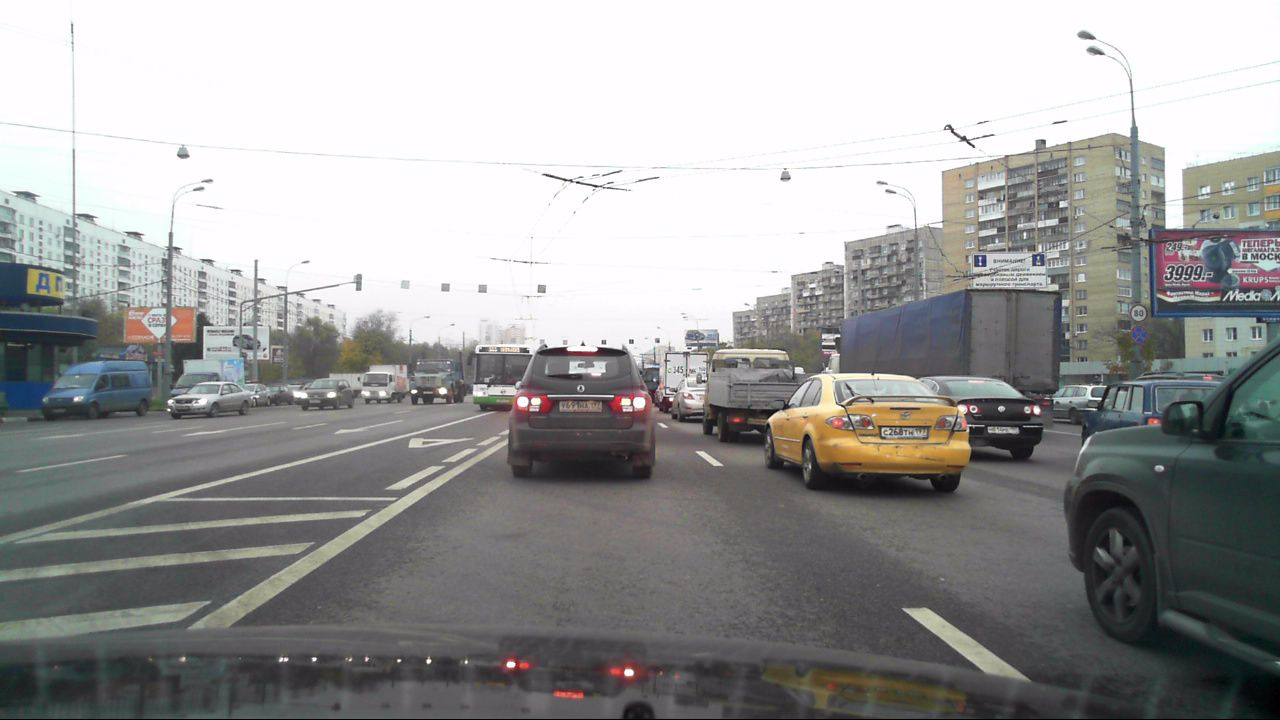No Parking: (1128, 326, 1145, 344)
